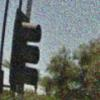traffic lights: (10, 8, 42, 93)
